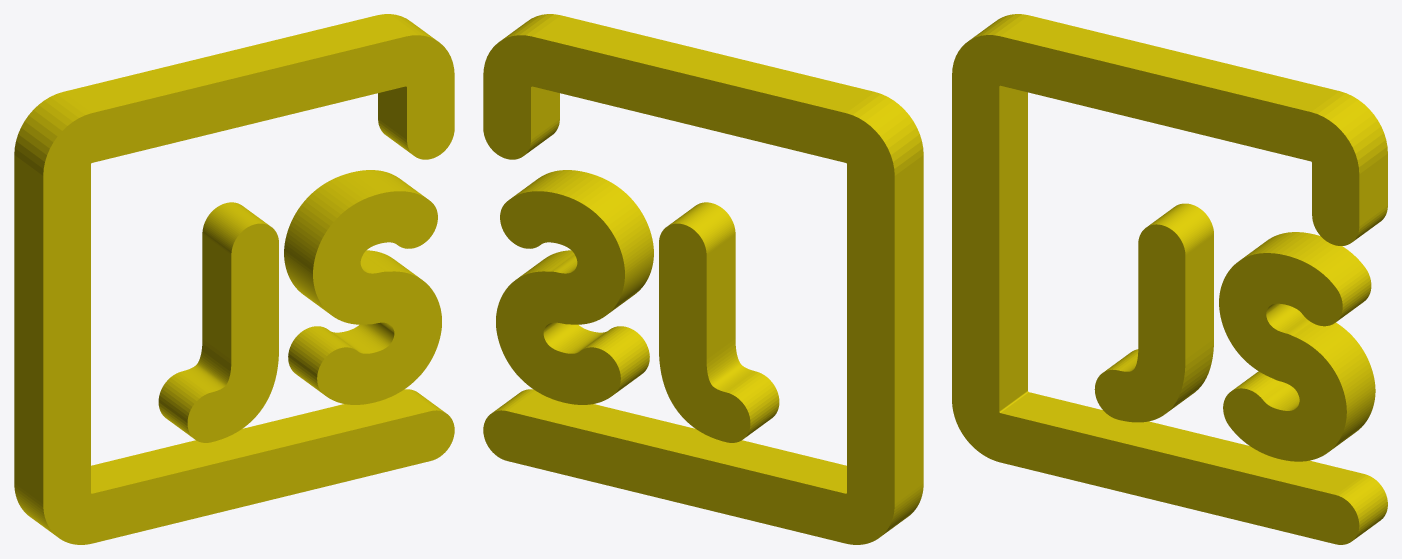
The model's file is javascript.gltf.
3 views of the same model, side by side, from view 1: azimuth 30°, elevation 25°; view 2: azimuth 150°, elevation 25°; view 3: azimuth 330°, elevation 25° (orthographic).
Size of the model in its own units: 0.82 by 0.82 by 0.1.
